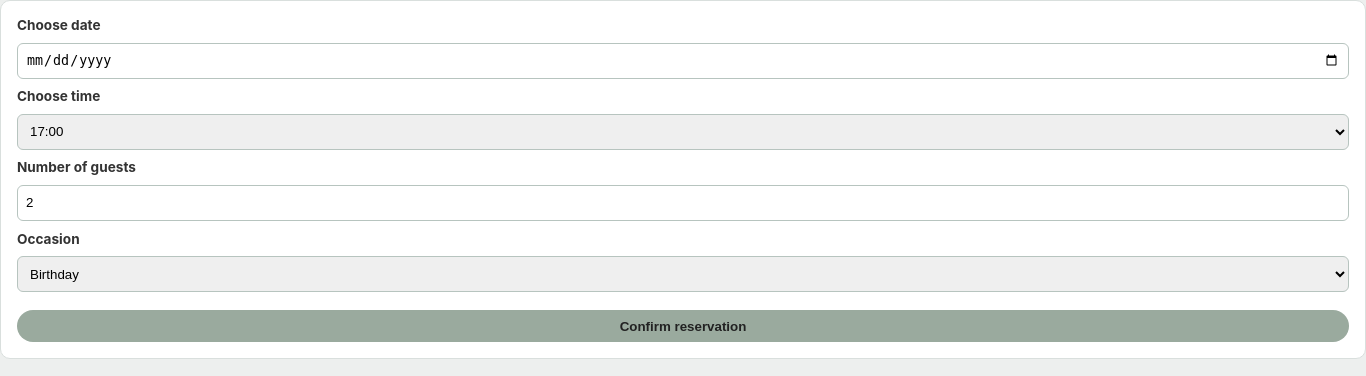
it: Submit button is enabled after a valid date is entered
The image size is (1366, 376).
In the date field labelled "Choose date": coordinates (683, 61) [17, 43, 1349, 79], type "2026-03-01"
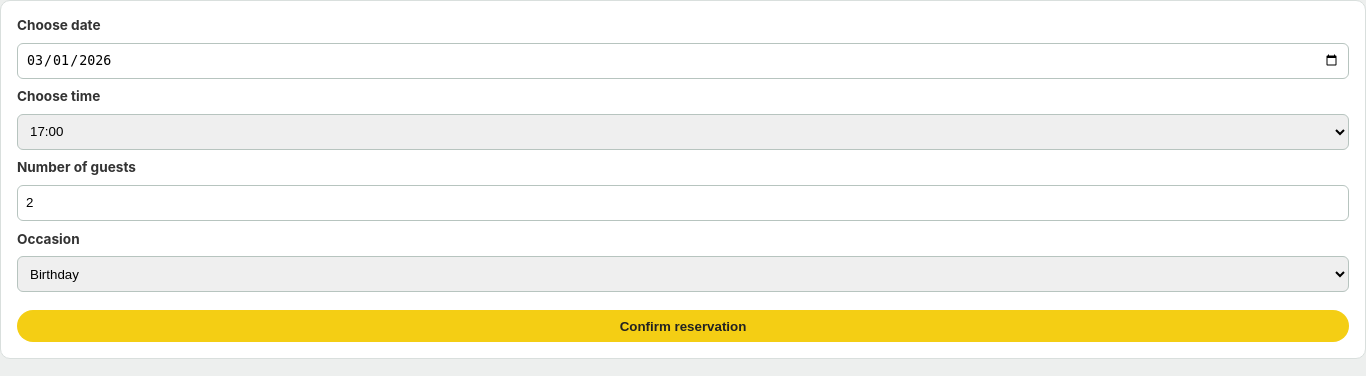
Result: the button "Confirm reservation" is enabled at [17, 310, 1349, 342]
